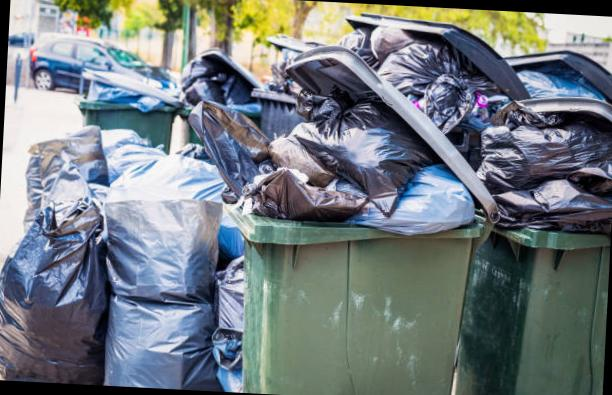trash: (73, 147, 218, 356), (0, 129, 112, 384), (286, 77, 404, 224), (486, 113, 610, 236), (122, 294, 222, 390), (402, 44, 494, 130), (81, 75, 161, 120), (254, 44, 307, 102), (528, 66, 592, 112), (174, 56, 235, 102)
trash_can_overflow: (0, 12, 612, 395)
